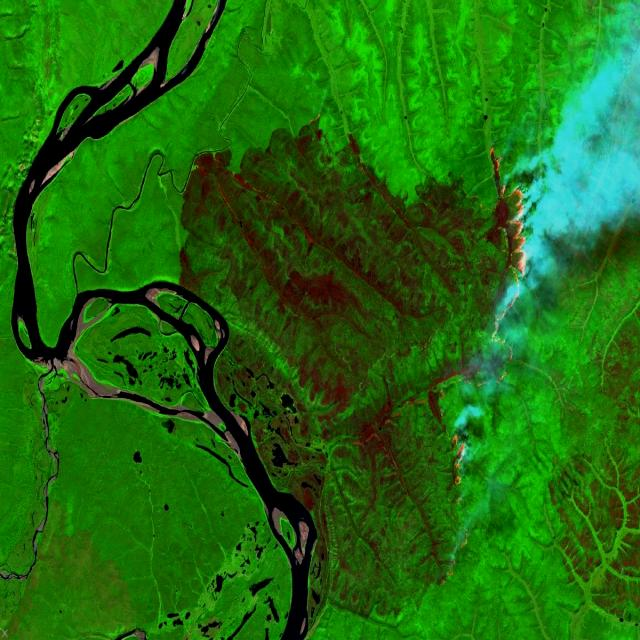fire: (442, 134, 546, 493)
